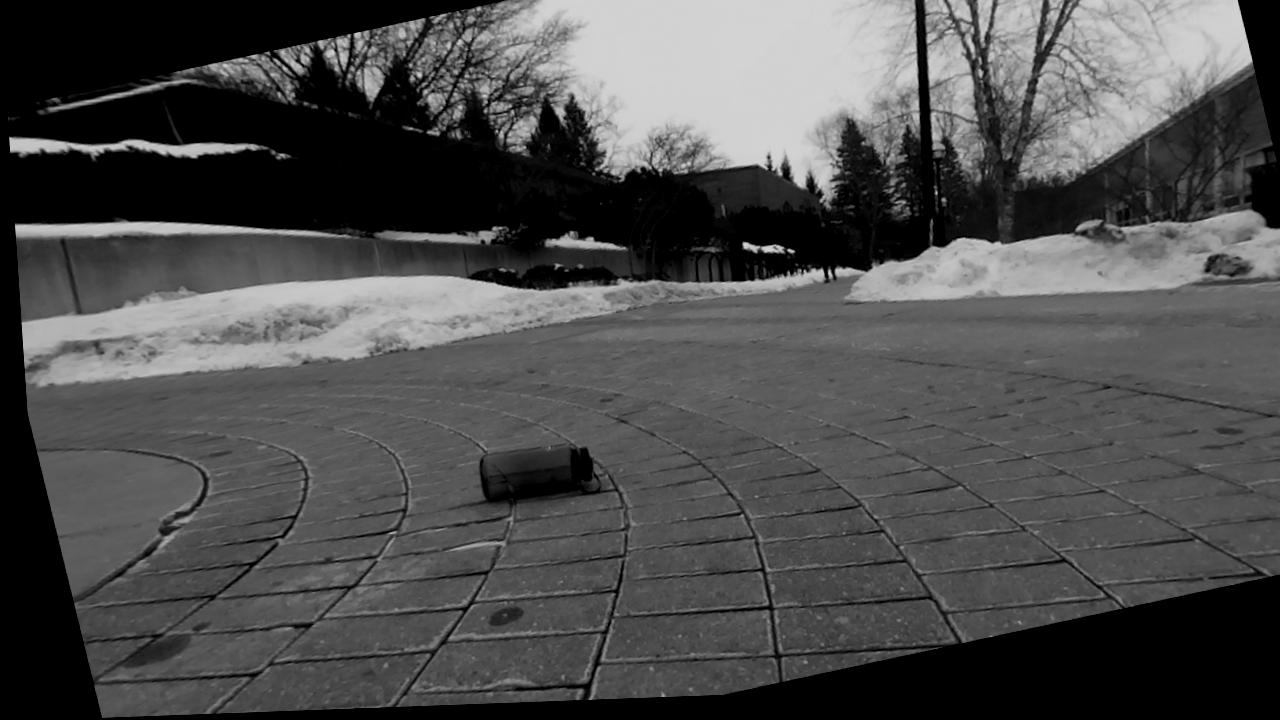bottle: (478, 443, 599, 500)
